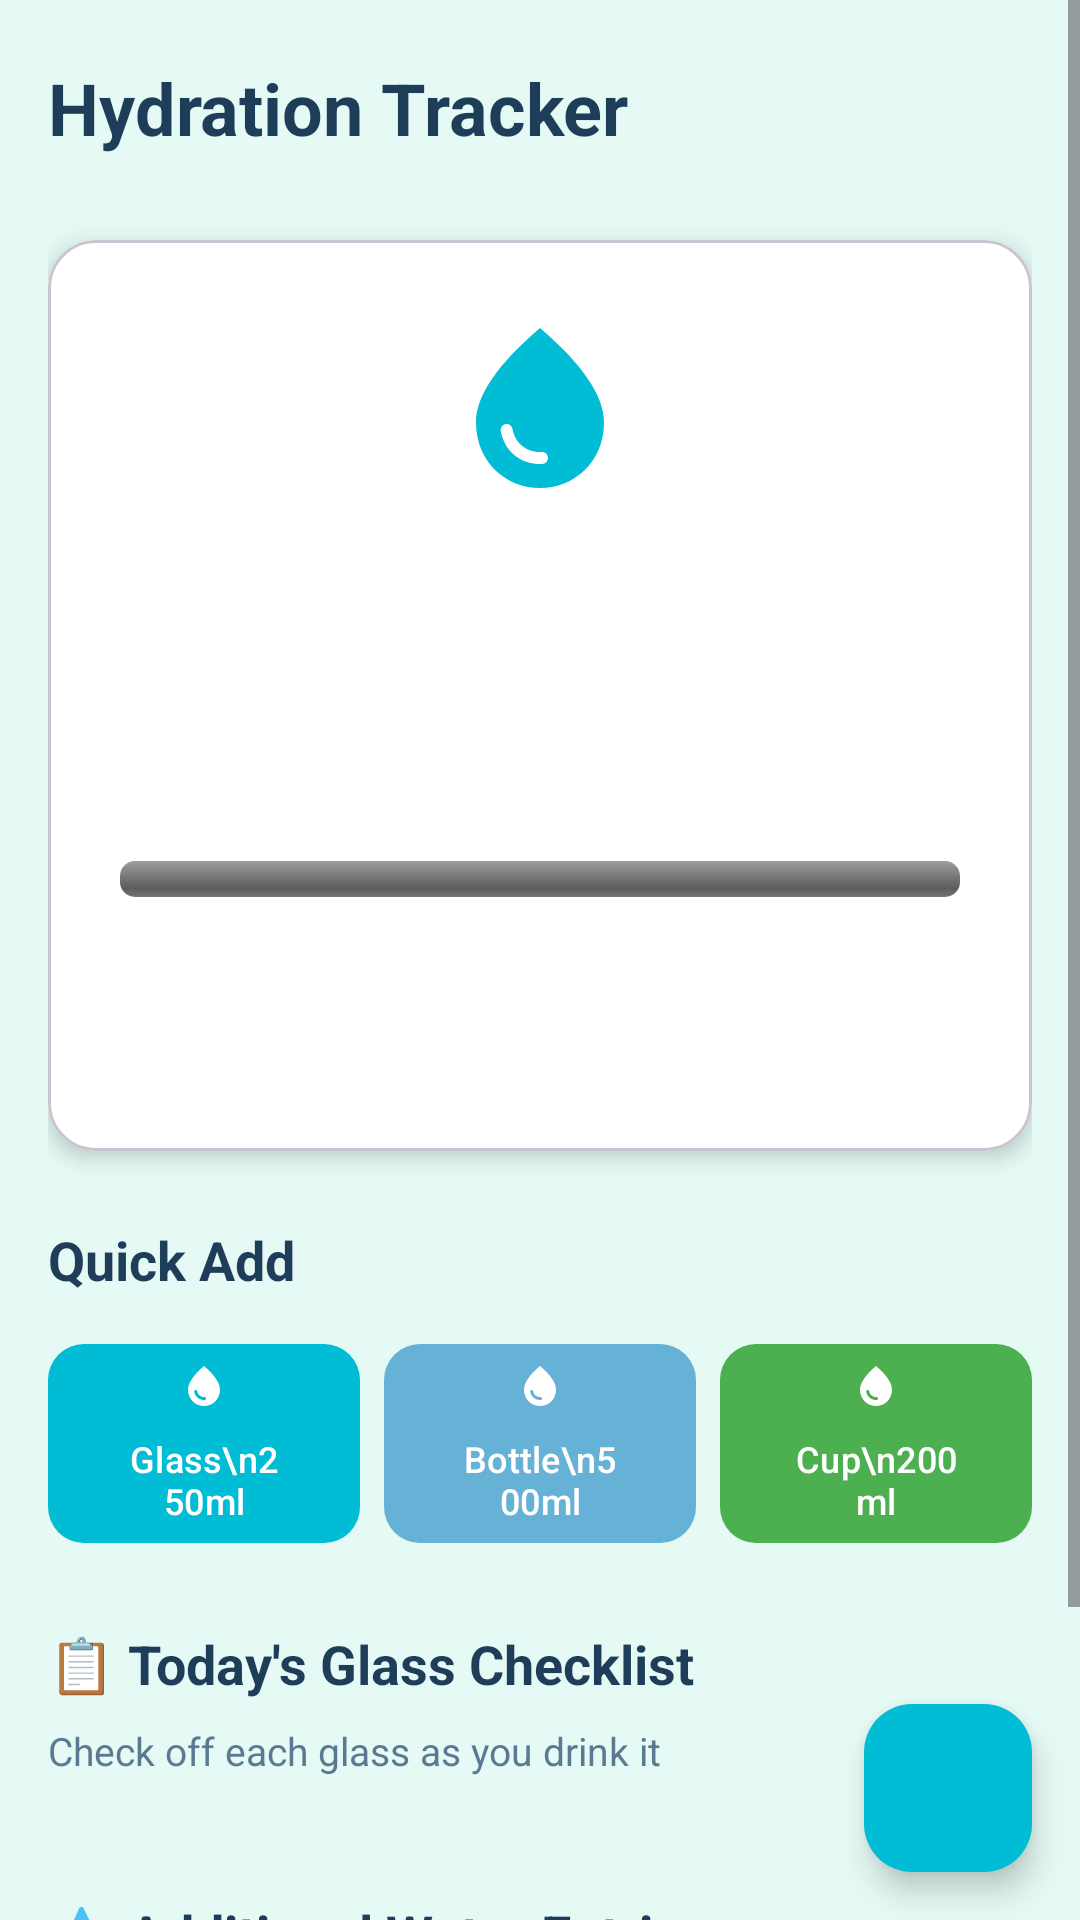

Icon bounding boxes for this 1080 × 1920 phone screenshot, format (x1, y1, x2, y2):
water drop: (476, 328, 604, 488)
